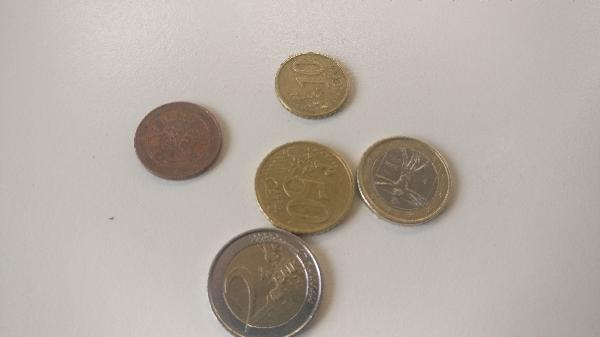Fifty Cent: (250, 138, 357, 234)
Five Cent: (132, 100, 222, 186)
One Euro: (357, 136, 453, 227)
Ten Cent: (275, 50, 354, 119)
Two Euro: (207, 228, 336, 337)
